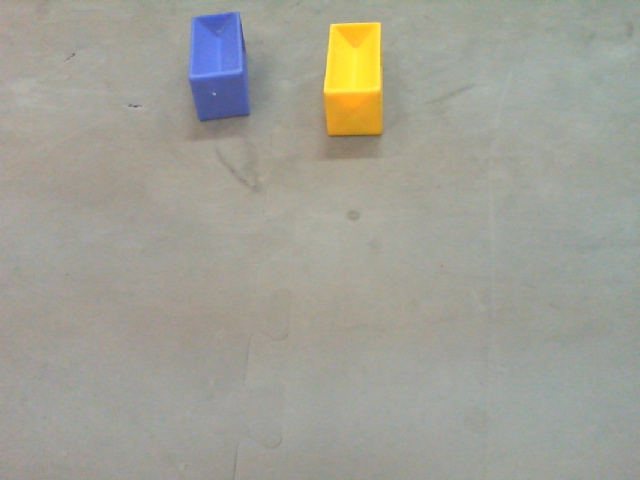BlueSample: (190, 14, 253, 124)
YellowSample: (321, 20, 385, 139)
